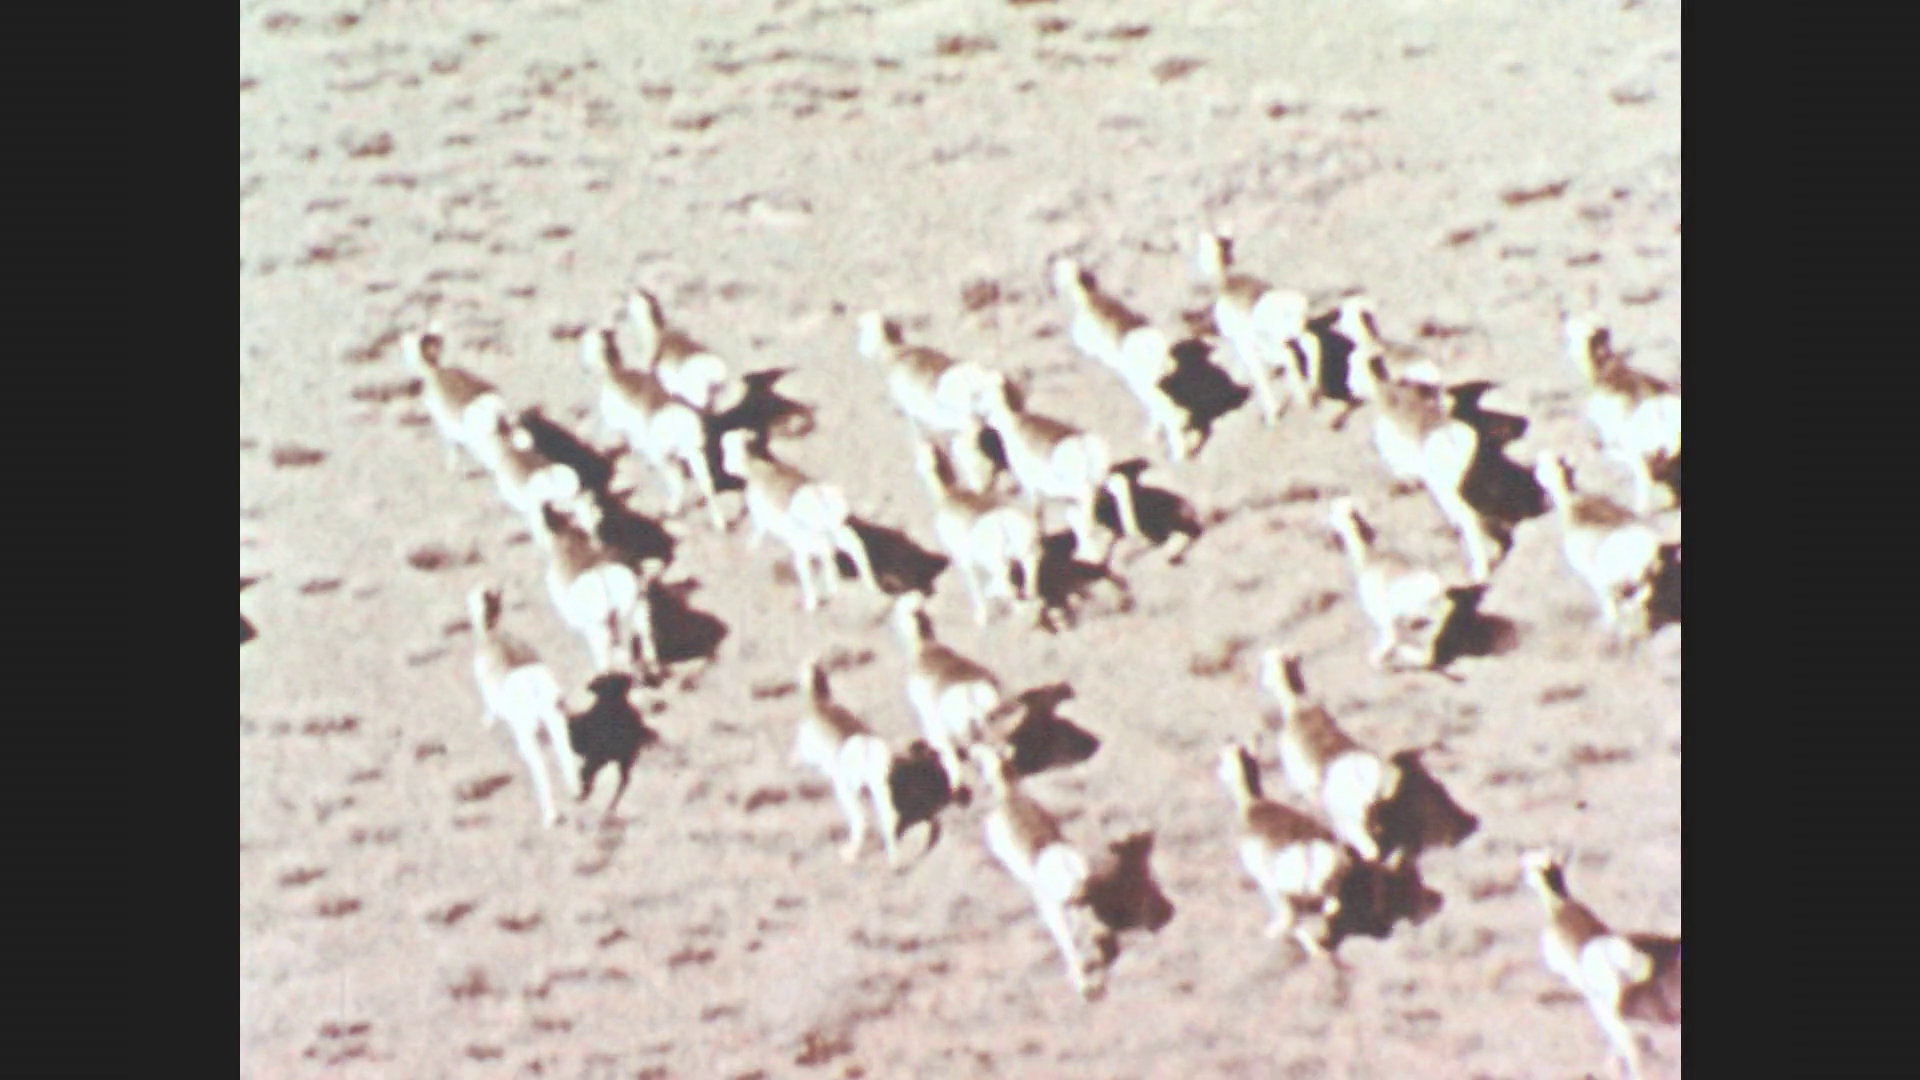sheep: (1261, 640, 1414, 916), (972, 745, 1114, 990), (1513, 836, 1655, 1080), (851, 309, 1033, 498), (723, 419, 887, 622), (578, 324, 728, 541), (1204, 742, 1349, 963), (464, 584, 595, 816), (1346, 342, 1491, 547), (1531, 451, 1676, 657), (1043, 257, 1197, 448), (524, 497, 669, 686), (906, 438, 1044, 632), (787, 649, 910, 862), (1195, 229, 1335, 415), (891, 593, 1014, 804), (479, 401, 612, 576), (1324, 505, 1468, 666), (401, 318, 531, 488), (1564, 315, 1687, 483)
